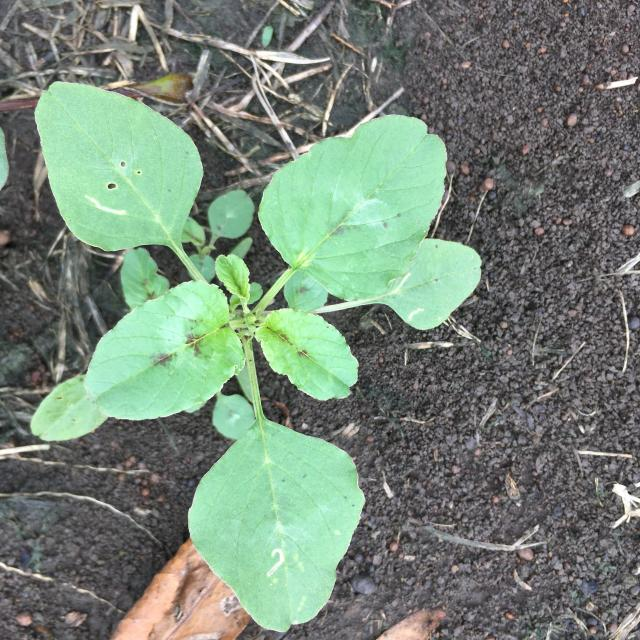PalmerAmaranth: (30, 81, 482, 633)
